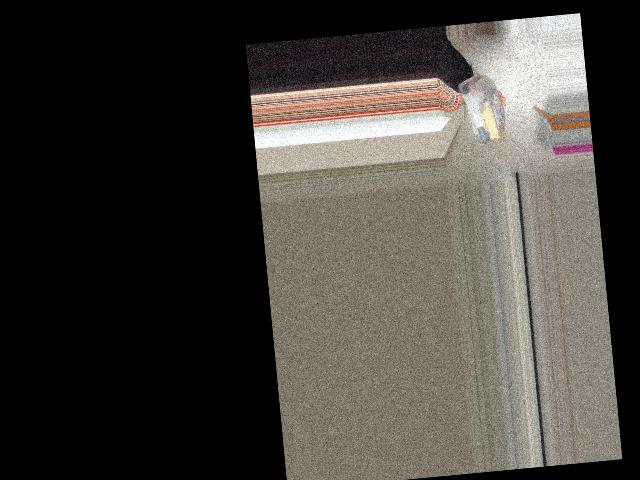cheese: (452, 73, 507, 148)
